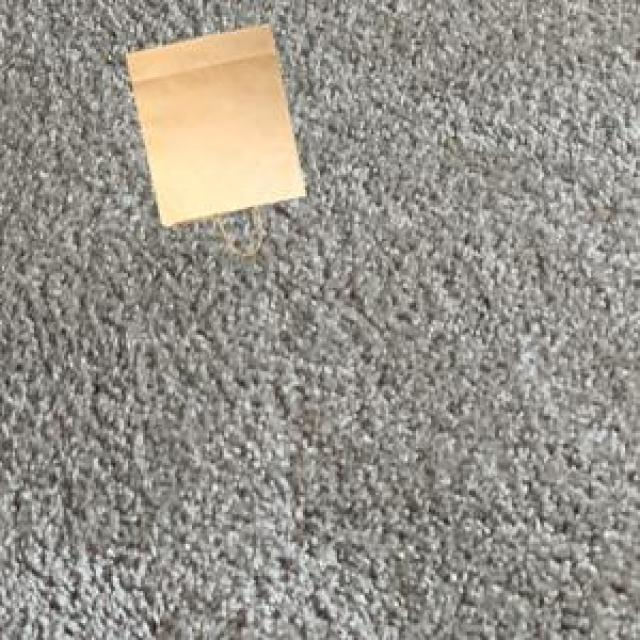paper: (122, 19, 301, 222)
